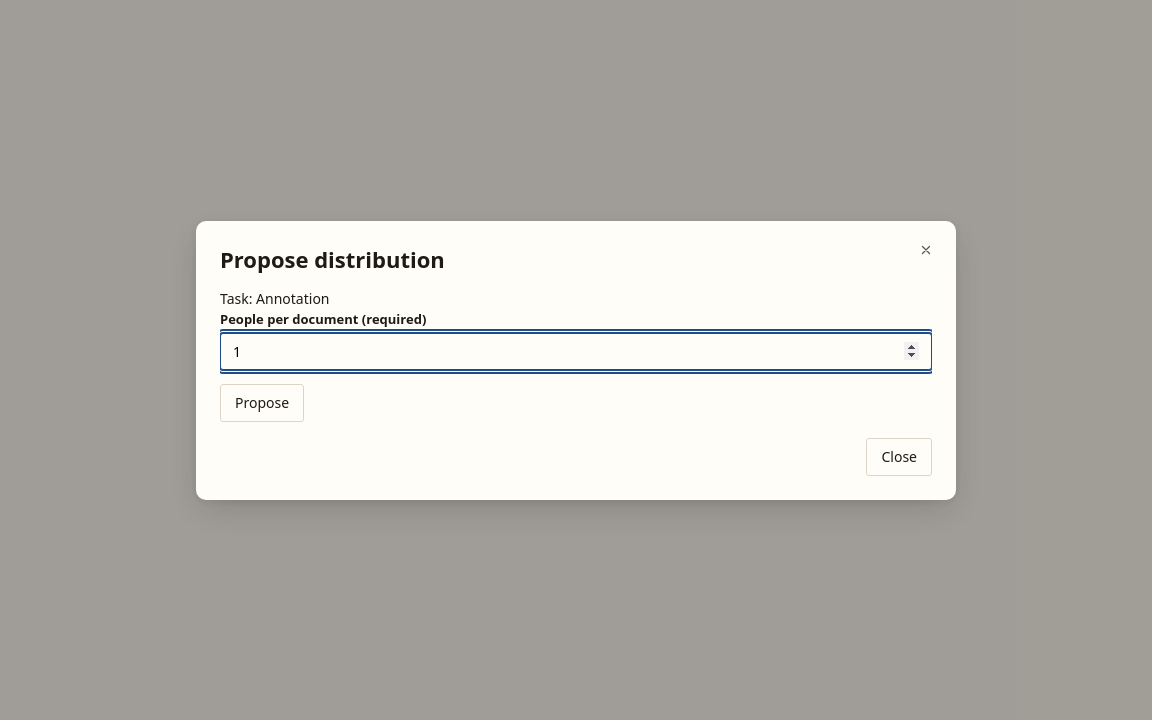
Test: shows distinct slots, every unassignable and actual original load before confirmation
Replace the text in the number field labelled "People per document (required)" with "2" at (576, 351), box 220,332 -> 932,370
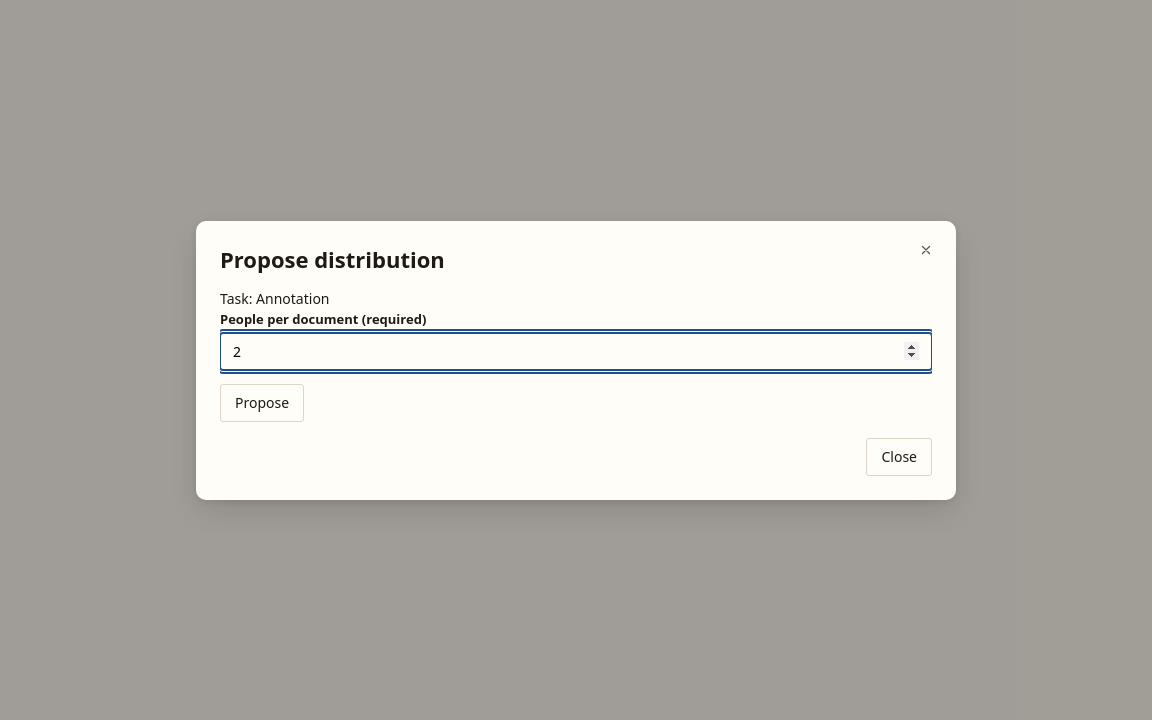
Click the button "Propose" at (262, 402), box 220,384 -> 304,422
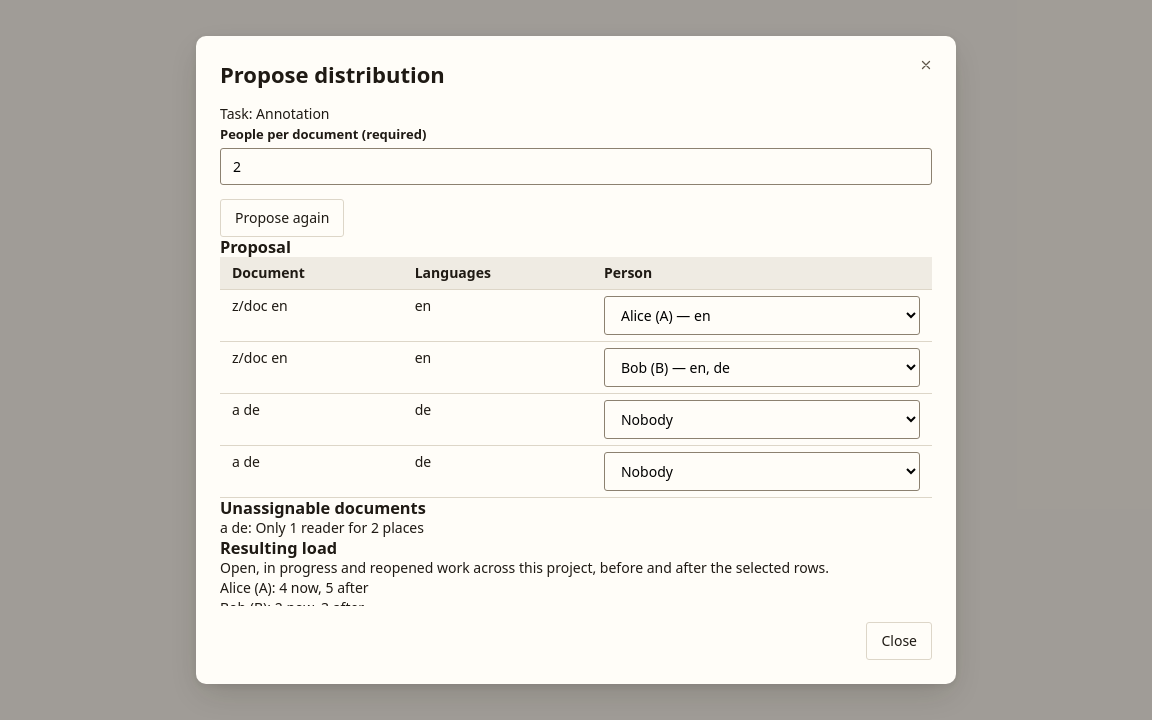
Expected: the heading "Proposal" is shown, 220,236 -> 291,258
Expected: the dropdown named "z/doc en, person 1" shows "Alice (A) — en", 604,296 -> 920,335
Expected: the dropdown named "z/doc en, person 2" shows "Bob (B) — en, de", 604,348 -> 920,387
